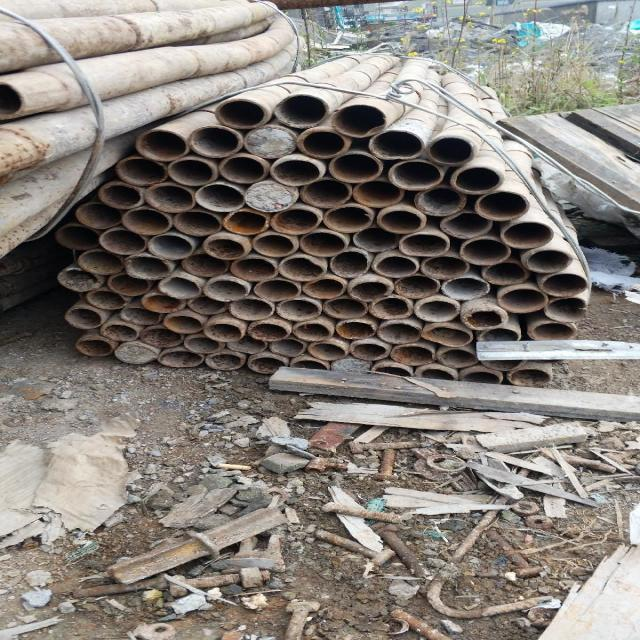pipe: (186, 124, 242, 158), (237, 180, 299, 210), (274, 94, 326, 128), (213, 98, 267, 130), (388, 160, 442, 192), (476, 190, 530, 222), (190, 182, 247, 212), (138, 126, 188, 160), (295, 128, 351, 158), (266, 156, 322, 186), (333, 105, 387, 136), (330, 152, 382, 184), (368, 130, 423, 160), (140, 184, 198, 212), (244, 126, 298, 156), (499, 220, 556, 248), (451, 164, 504, 194), (114, 156, 170, 184), (373, 207, 427, 236), (458, 237, 511, 266), (415, 188, 466, 218), (119, 206, 173, 234), (439, 210, 493, 238), (352, 180, 404, 208), (171, 208, 223, 236), (70, 250, 126, 276), (218, 154, 266, 184), (304, 178, 352, 208), (95, 180, 142, 210), (163, 160, 217, 186), (535, 272, 589, 298), (428, 136, 474, 166), (268, 208, 320, 234), (227, 256, 279, 282), (76, 203, 126, 230), (145, 233, 194, 260), (50, 268, 105, 292), (55, 224, 102, 252), (202, 234, 249, 262), (219, 210, 269, 236), (323, 206, 373, 232), (249, 232, 299, 258), (350, 228, 400, 254), (398, 232, 448, 258), (525, 248, 575, 274), (276, 256, 326, 282), (199, 276, 249, 302), (496, 286, 546, 312), (546, 294, 596, 320), (96, 230, 149, 254), (479, 262, 532, 286), (325, 250, 370, 278), (270, 298, 322, 322), (423, 322, 471, 348), (299, 232, 350, 256), (425, 254, 472, 280), (121, 256, 171, 280), (372, 254, 422, 278), (103, 274, 153, 298), (251, 280, 304, 302), (182, 252, 230, 276), (230, 298, 276, 322), (158, 276, 203, 300), (377, 320, 422, 344), (78, 290, 131, 310), (368, 296, 412, 320), (444, 276, 487, 300), (323, 298, 369, 320), (412, 300, 458, 322), (370, 362, 416, 384), (532, 320, 582, 340), (177, 334, 226, 354), (62, 308, 106, 330), (138, 294, 186, 314), (154, 346, 202, 366), (302, 278, 345, 300), (348, 278, 391, 300), (465, 306, 507, 328), (74, 336, 116, 358), (394, 280, 440, 300), (288, 322, 333, 342), (436, 348, 478, 369), (390, 344, 434, 364), (510, 366, 554, 386), (248, 356, 292, 376), (116, 344, 156, 366), (202, 324, 245, 344), (188, 296, 230, 316), (248, 322, 290, 342), (138, 328, 180, 348), (308, 342, 350, 362), (119, 308, 165, 326), (458, 370, 508, 386), (333, 322, 375, 341), (223, 338, 267, 356), (476, 328, 524, 344), (164, 314, 202, 334), (266, 340, 308, 358), (482, 354, 524, 372), (348, 340, 384, 360), (206, 354, 246, 372), (102, 324, 140, 342), (415, 368, 457, 384), (332, 359, 370, 376), (288, 358, 329, 373)
